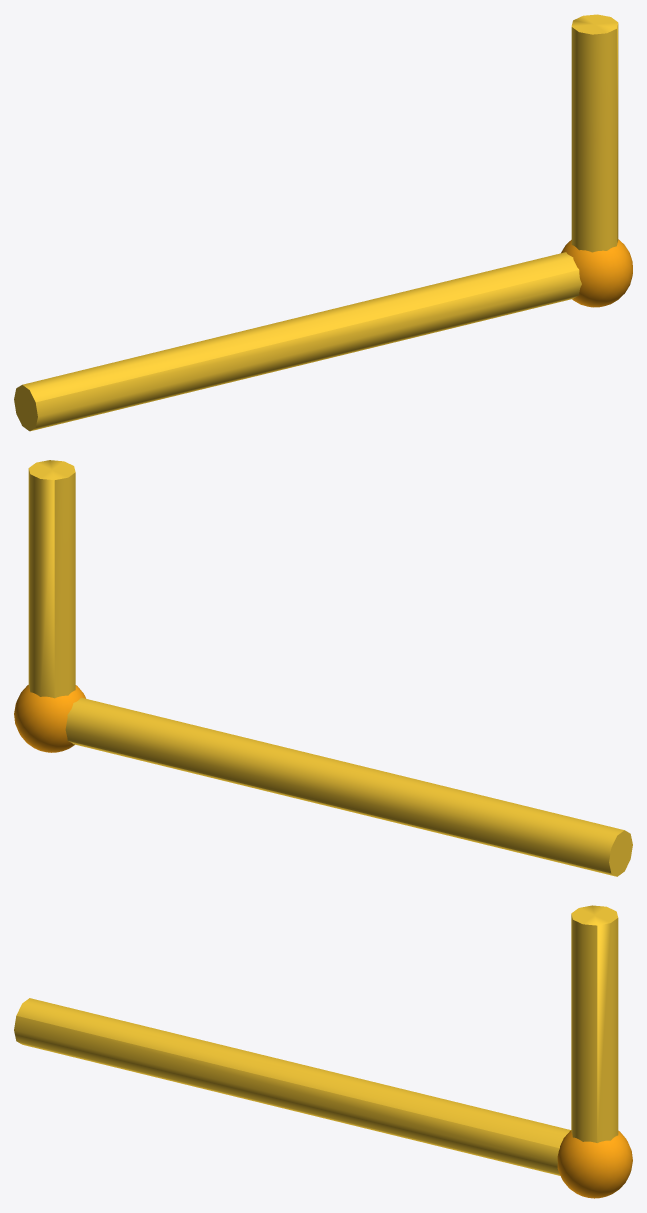
File: platform02.FBX
The picture shows the model from 3 angles, top to bottom: view 1: azimuth 30°, elevation 25°; view 2: azimuth 150°, elevation 25°; view 3: azimuth 330°, elevation 25°; orthographic projection.
Parts seen in each view (by area): view 1: platform02; view 2: platform02; view 3: platform02.
Boxes of the visible parts, left/top/right/bottom form: platform02: left=14, top=14, right=632, bottom=431; platform02: left=14, top=460, right=632, bottom=876; platform02: left=14, top=905, right=632, bottom=1198.
Bounding box in the file's own units: 12.59 × 5.58 × 1.38.
Materials: 1 (1 with a texture image).
